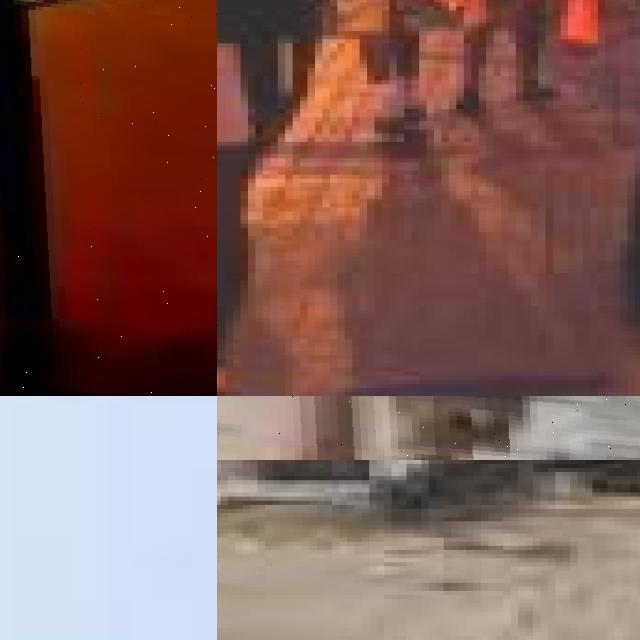street light: (0, 0, 217, 396), (217, 396, 640, 459)
